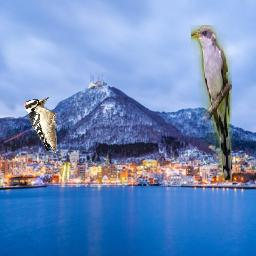Cuckoo: (192, 26, 233, 183)
Woodpecker: (23, 97, 57, 153)
